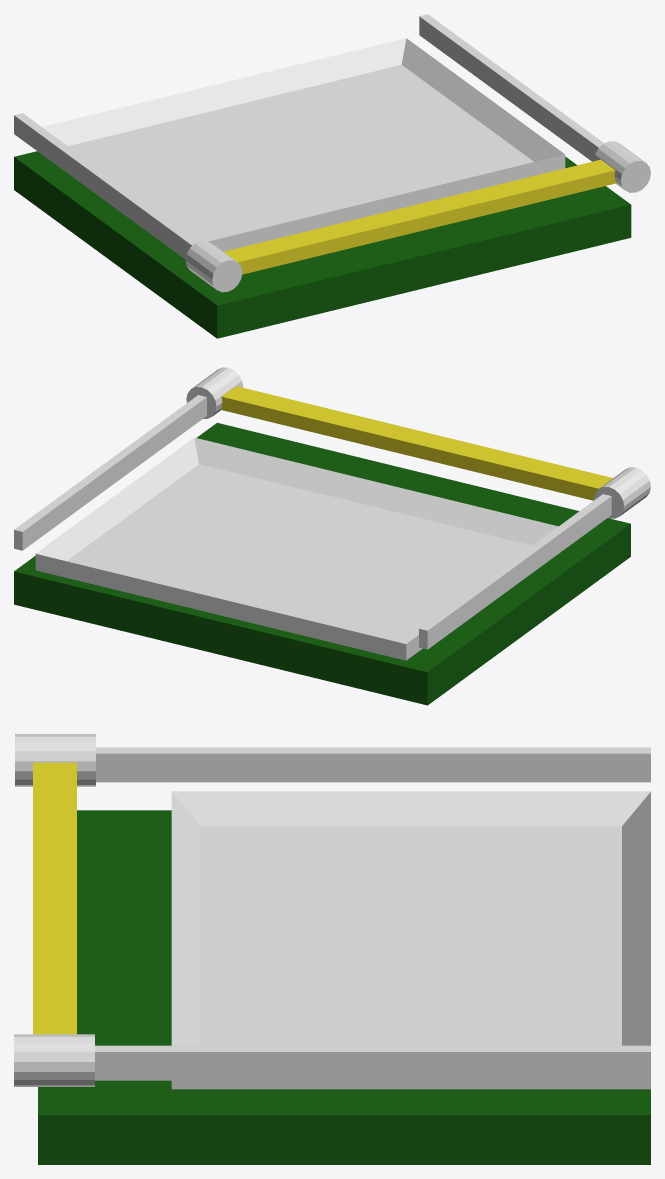
Rendered from DropPlatform.fbx.
3 renders of one model, top to bottom at view 1: azimuth 30°, elevation 25°; view 2: azimuth 150°, elevation 25°; view 3: azimuth 270°, elevation 25°, orthographic. The views are drawn at different scales.
Visible parts, largest first — view 1: kenar.001, yol, yol.002, kenar.004, kenar.002; view 2: kenar.001, yol, yol.002, kenar.004, kenar.002; view 3: kenar.001, yol, yol.002, kenar.002, kenar.004.
Boxes of the visible parts, x1,y1,x2,y2 form: kenar.001: [42, 38, 565, 251]; yol: [14, 151, 631, 338]; yol.002: [14, 14, 604, 259]; kenar.004: [185, 206, 425, 292]; kenar.002: [411, 141, 650, 229]; kenar.001: [35, 437, 558, 660]; yol: [14, 422, 630, 705]; yol.002: [14, 395, 611, 649]; kenar.004: [411, 432, 650, 518]; kenar.002: [186, 367, 425, 455]; kenar.001: [171, 791, 650, 1089]; yol: [38, 810, 650, 1164]; yol.002: [95, 747, 650, 1080]; kenar.002: [14, 902, 94, 1086]; kenar.004: [15, 734, 95, 902].
Bounding box in the file's own units: 415 × 75.3 × 346.
